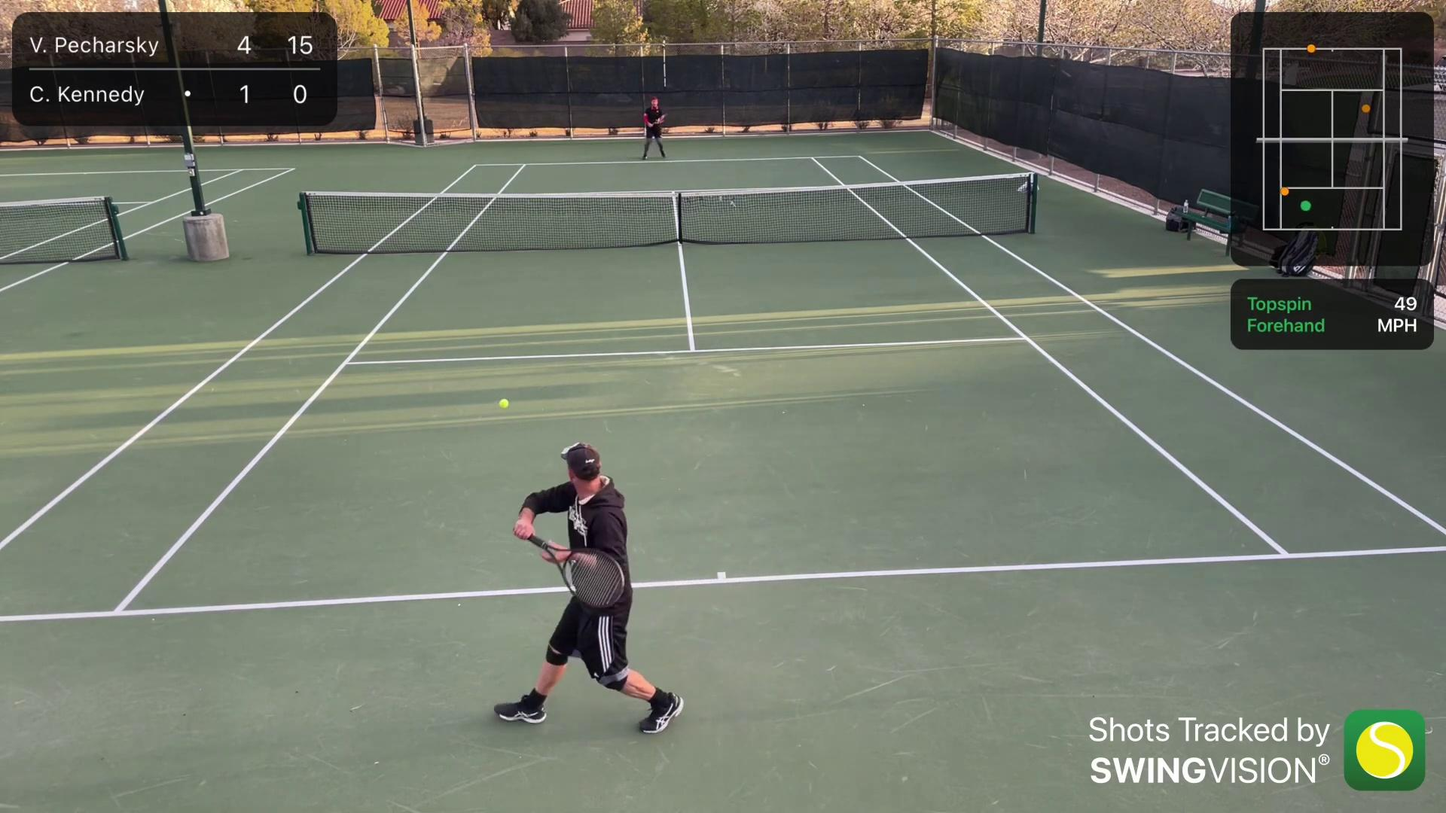ball: (498, 396, 511, 410)
